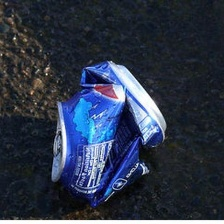can: (43, 54, 173, 212)
